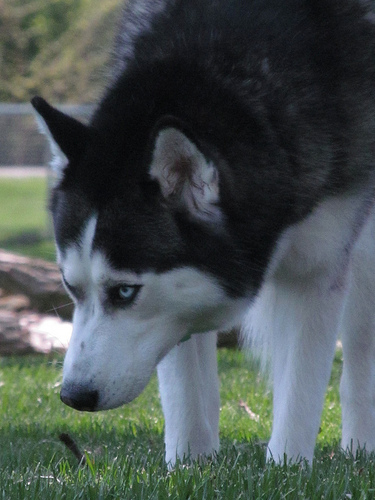dog: (31, 0, 373, 471)
